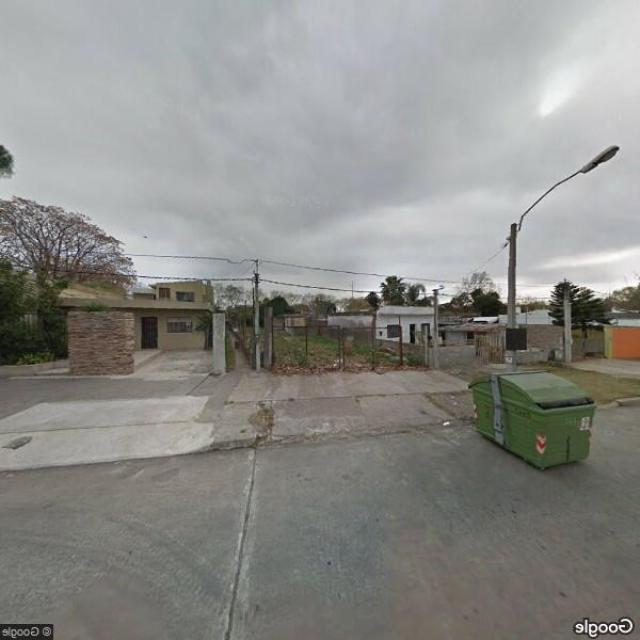garbage container: (456, 356, 605, 480)
